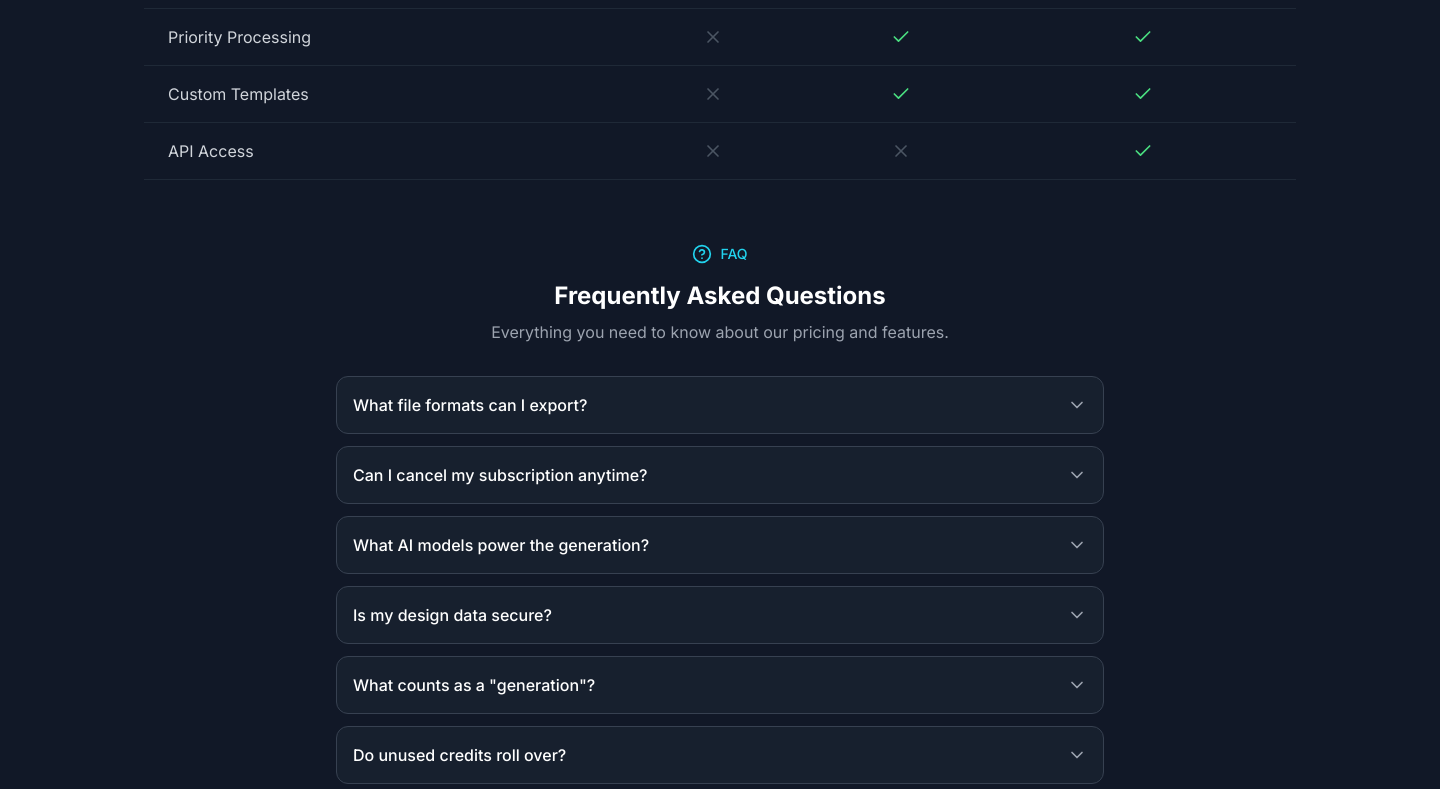
Test: PricingPage › FAQ Section › expands FAQ answer when question is clicked
The image size is (1440, 789).
(page scrolled)
expect the text "What file formats can I export?" is shown: met, box [353, 393, 603, 417]
Note: Click on the first FAQ question
Click the button "What file formats can I export?".
click(470, 405)  # box [337, 377, 1103, 433]
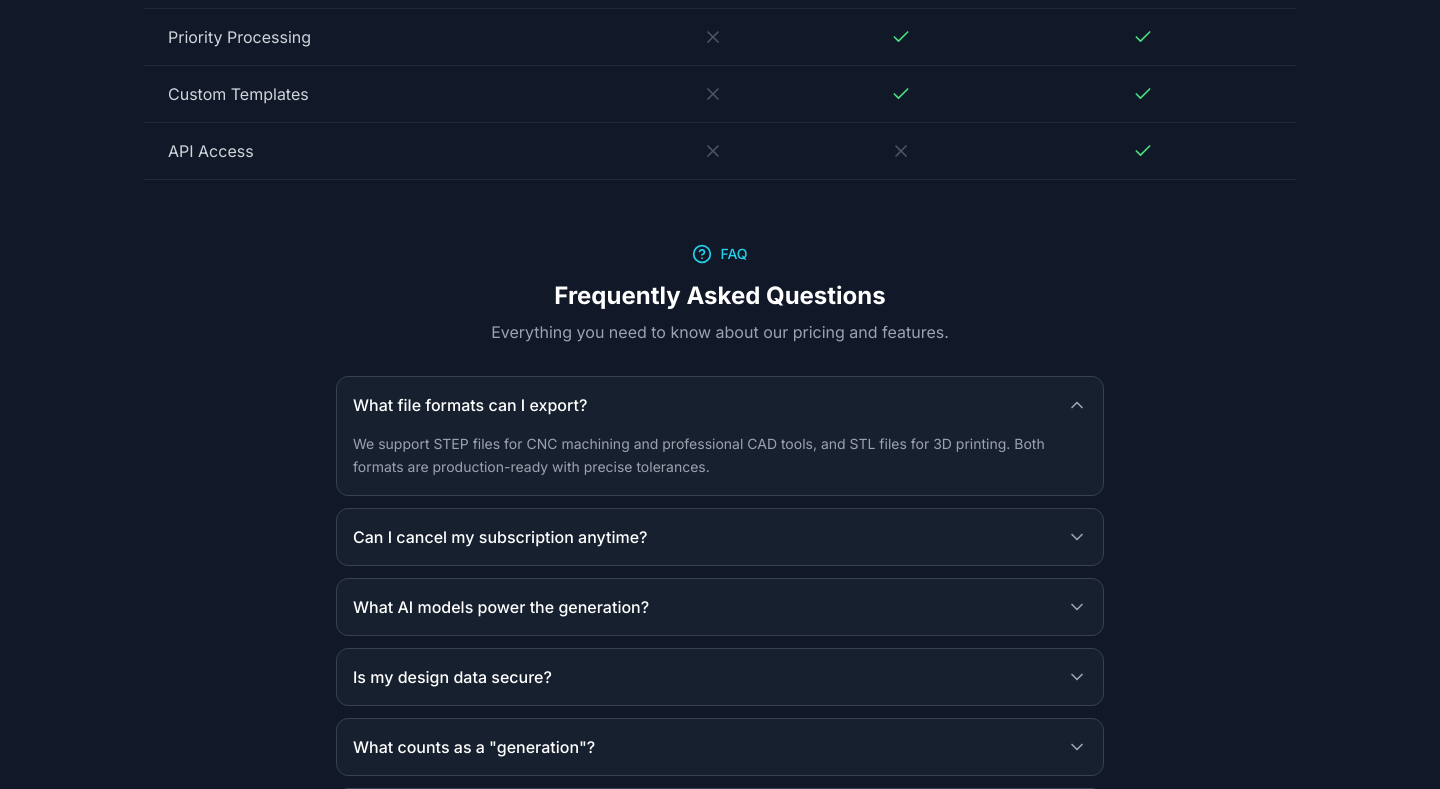
expect the text "We support STEP files for CNC machining" is shown: met, box [353, 435, 1045, 475]
